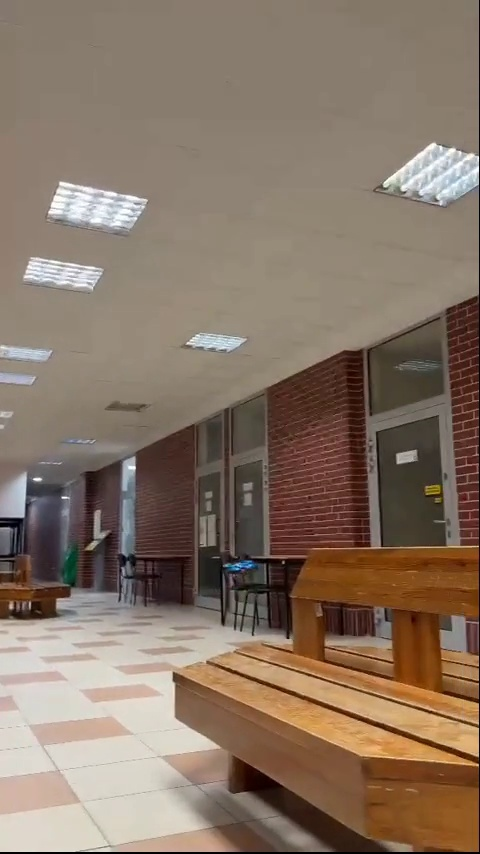drone: (222, 560, 258, 576)
